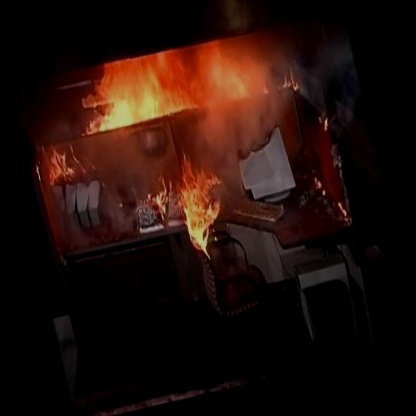fire: (15, 3, 366, 296)
